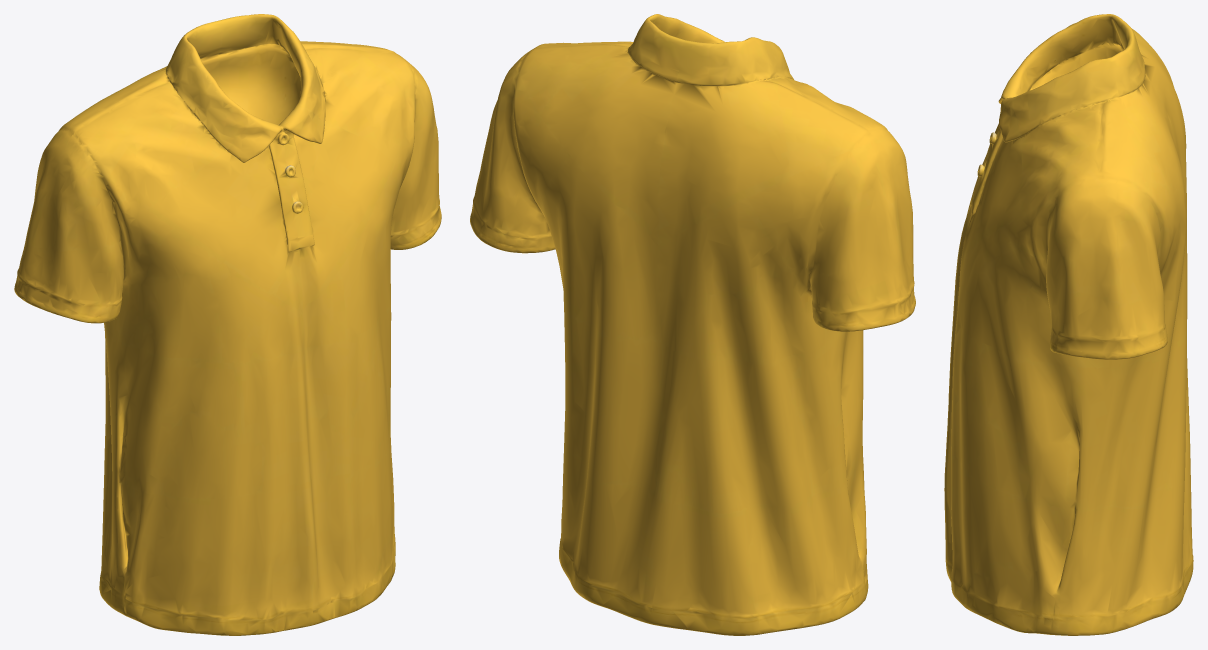
3 views of the same model, side by side, from view 1: azimuth 30°, elevation 25°; view 2: azimuth 150°, elevation 25°; view 3: azimuth 270°, elevation 25° (orthographic). The views are drawn at different scales.
Visible parts, largest first — view 1: tripo_node_d9af9cb7-448a-4557-80a8-71254c126d15; view 2: tripo_node_d9af9cb7-448a-4557-80a8-71254c126d15; view 3: tripo_node_d9af9cb7-448a-4557-80a8-71254c126d15.
Part boxes in pixels (box(x1,y1,x2,y2)): tripo_node_d9af9cb7-448a-4557-80a8-71254c126d15: box(14, 14, 441, 635); tripo_node_d9af9cb7-448a-4557-80a8-71254c126d15: box(470, 14, 915, 635); tripo_node_d9af9cb7-448a-4557-80a8-71254c126d15: box(944, 14, 1193, 635).
Size of the model in its own units: 0.7984 by 0.9998 by 0.4177.
Materials: 1 (1 with a texture image).
